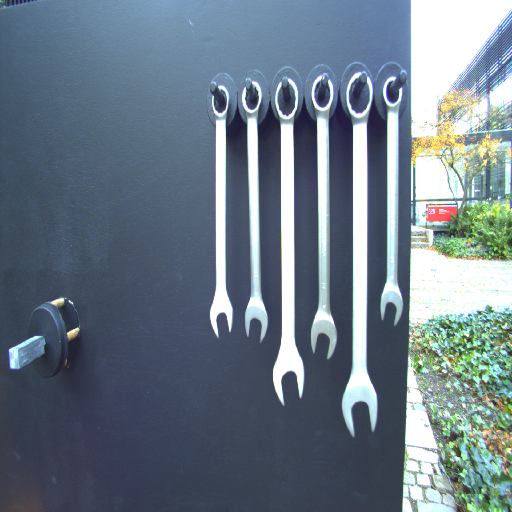bottom: (340, 373, 380, 441), (272, 342, 307, 410), (308, 308, 339, 364), (207, 291, 236, 342), (378, 278, 405, 330), (242, 294, 271, 341)
top: (345, 71, 374, 126), (273, 76, 301, 124), (311, 73, 335, 117), (383, 71, 407, 115), (239, 77, 264, 119), (209, 82, 232, 121)
